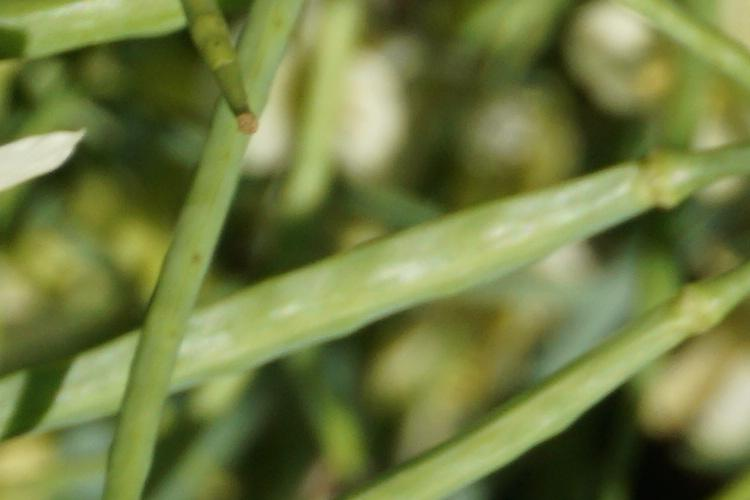pod: (172, 23, 275, 159)
